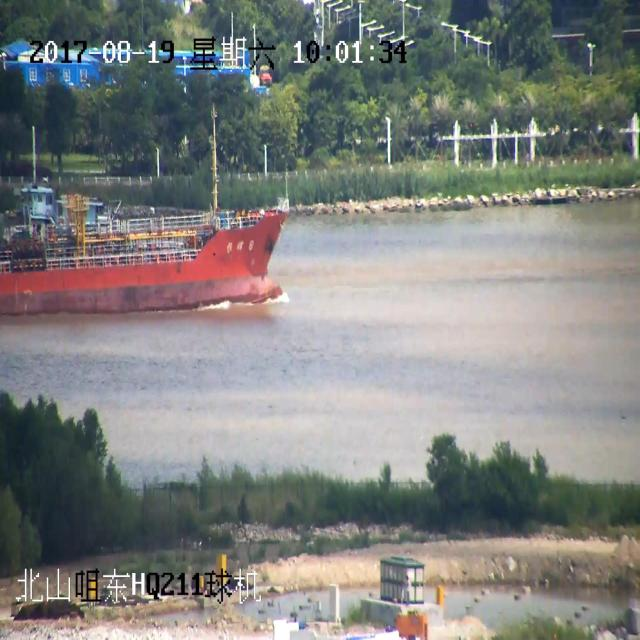cargoship: (8, 141, 296, 344)
